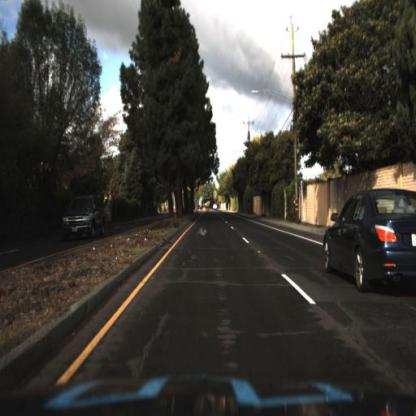car: (322, 184, 416, 302), (61, 194, 105, 244)
